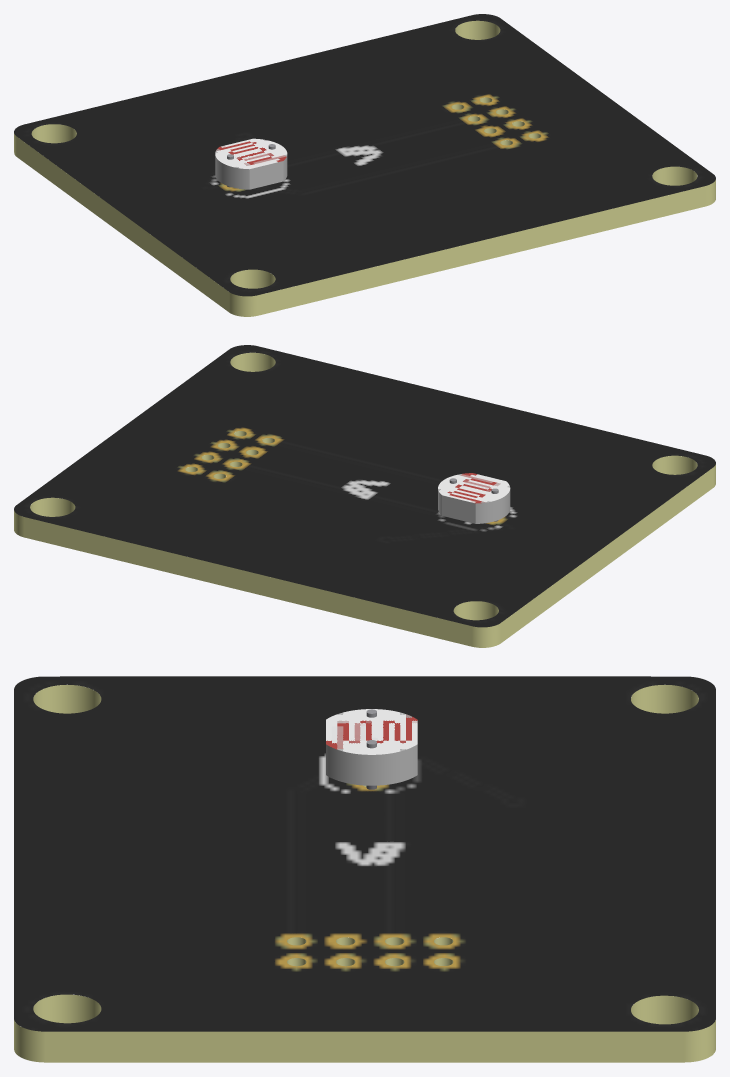
File: light.glb
The picture shows the model from 3 angles, top to bottom: view 1: azimuth 30°, elevation 25°; view 2: azimuth 150°, elevation 25°; view 3: azimuth 270°, elevation 25°; orthographic projection. The views are drawn at different scales.
Size of the model in its own units: 0.0395 by 0.00596 by 0.033.
Materials: 17 (2 with a texture image).
